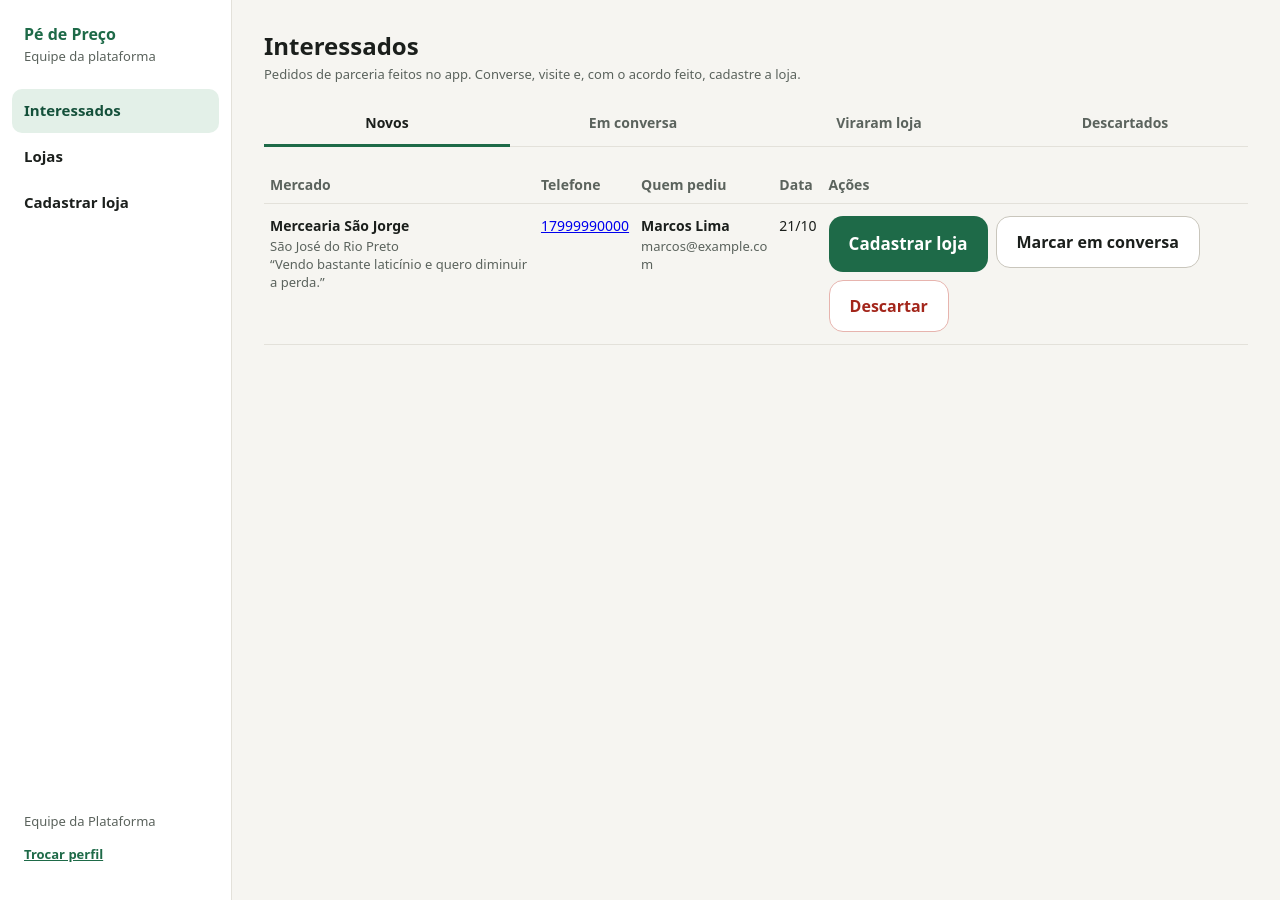
P1 · Interessados › "Descartar" pede o motivo e mostra o pedido nos Descartados
Click the button "Descartar" at (889, 306), box [829,280,949,332]
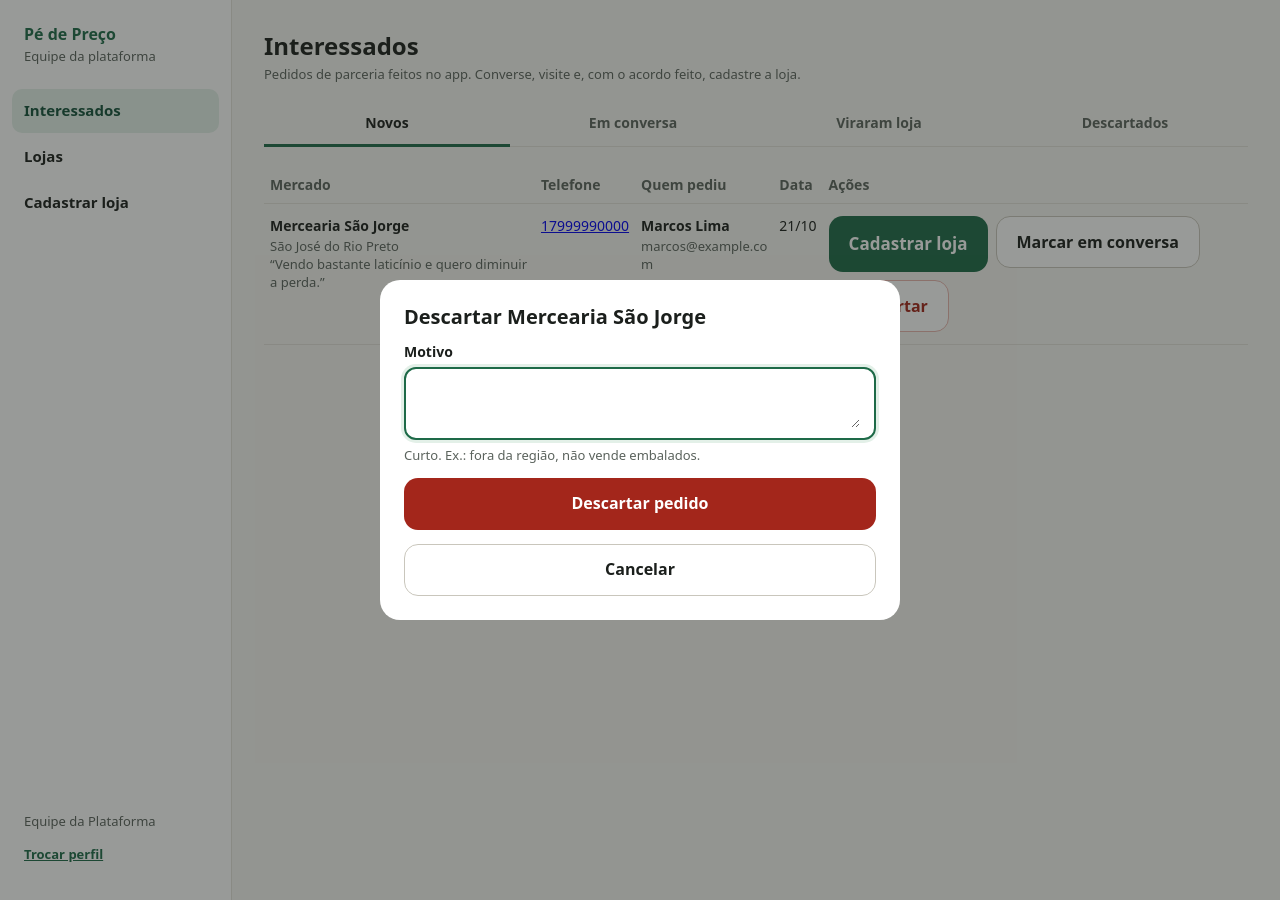
Click the button "Descartar pedido" at (640, 504), box [404,478,876,530]
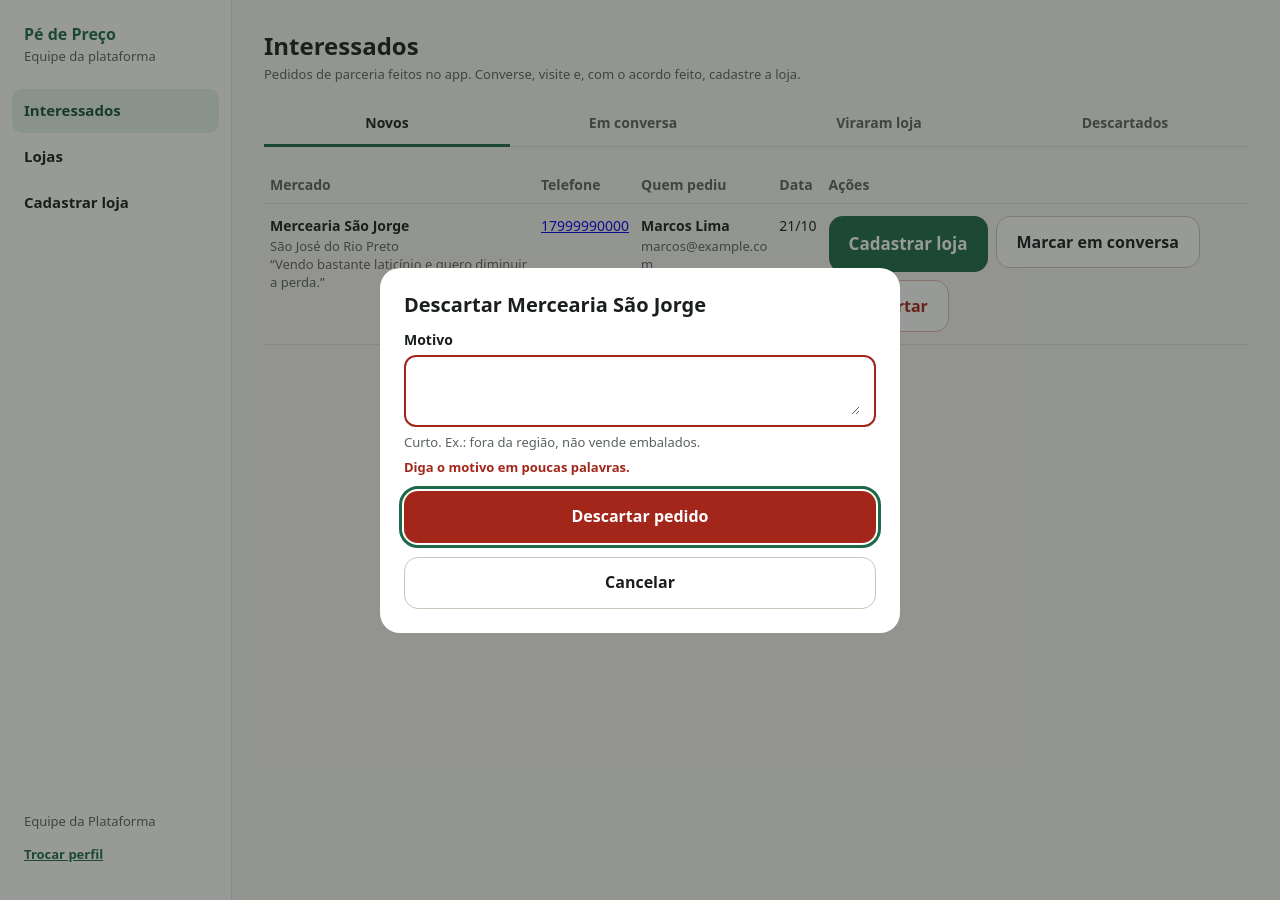
Type "Fora da região" into the text box labelled "Motivo" at (640, 391), box [420,367,860,416]
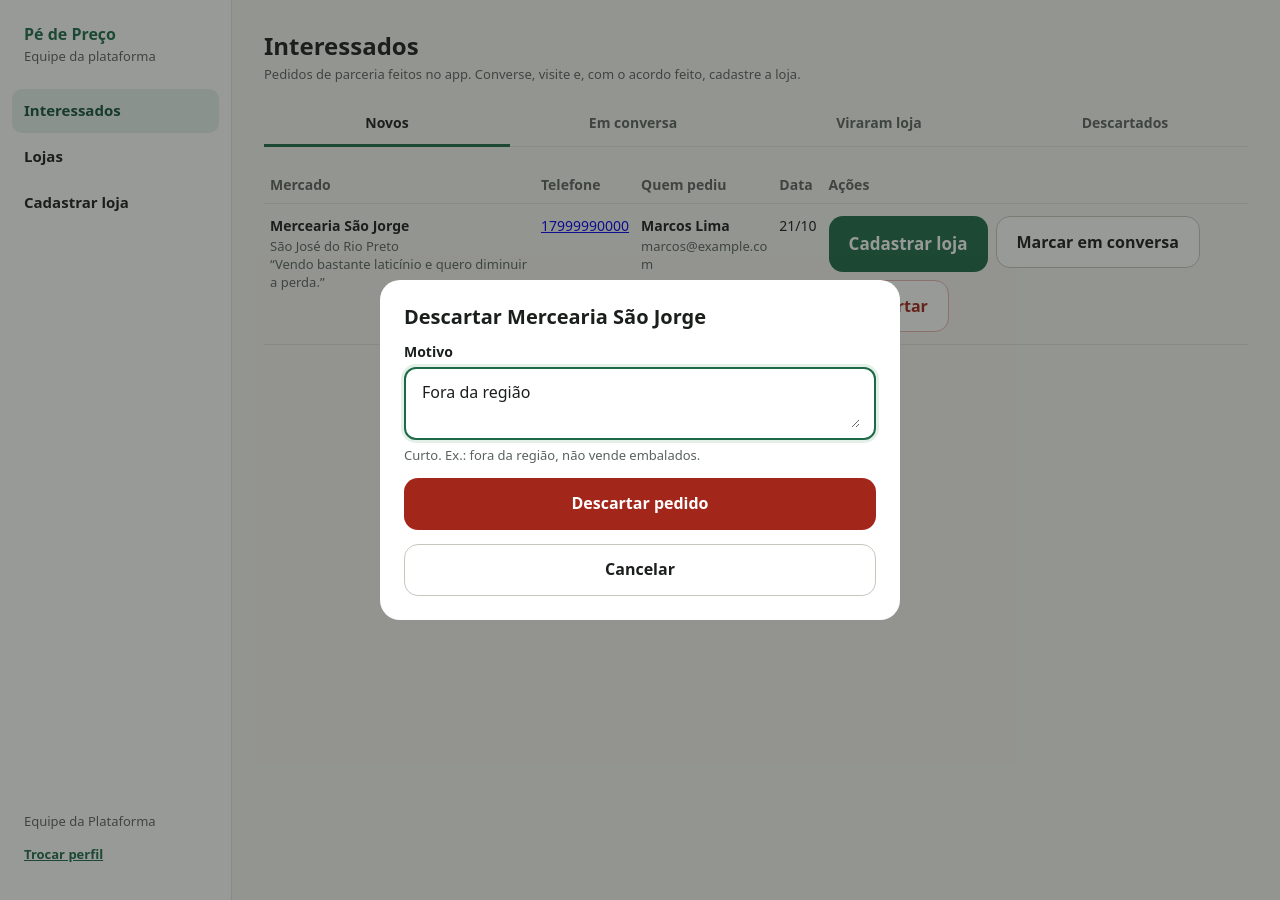
Click the button "Descartar pedido" at (640, 504), box [404,478,876,530]
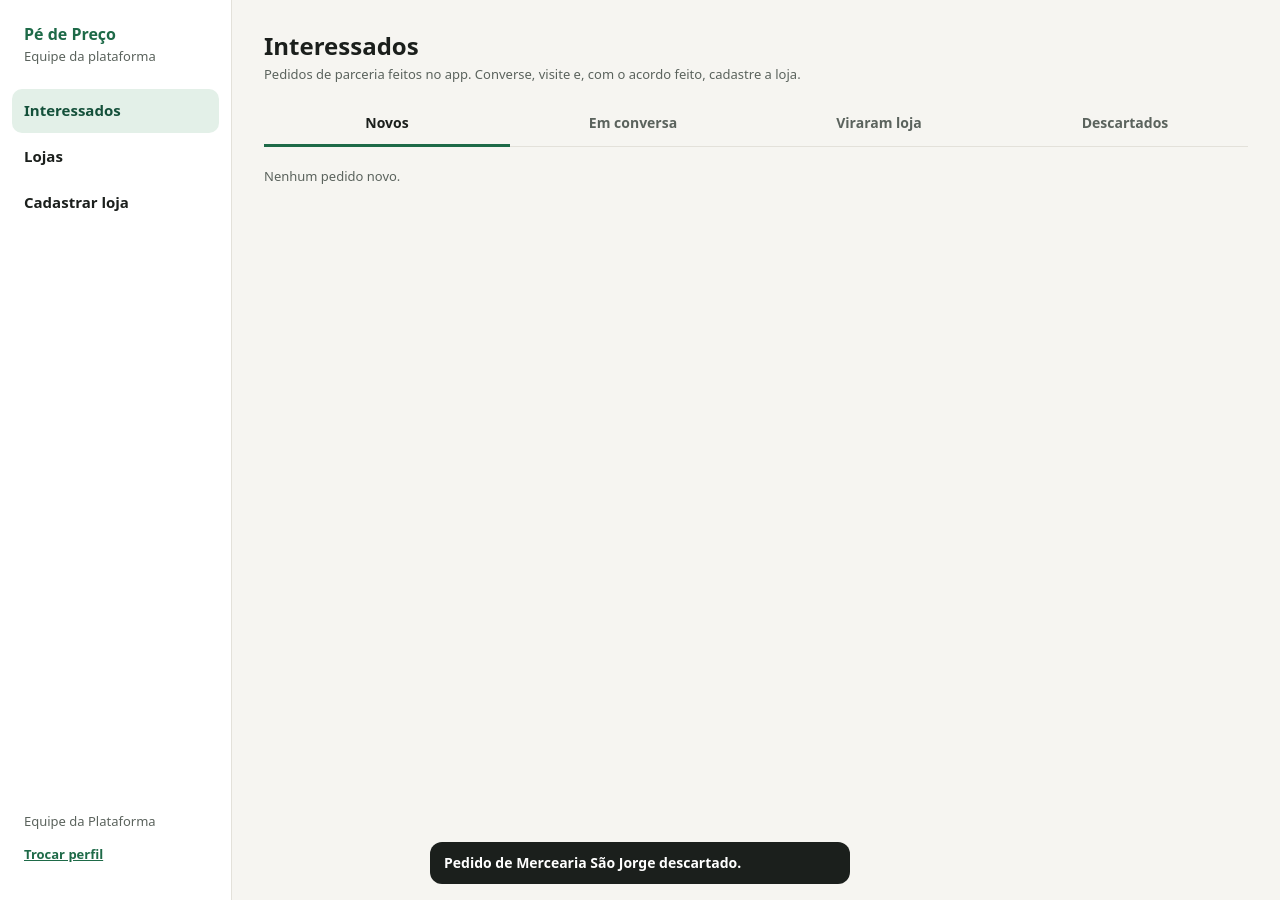
Expected: the dialog is gone
Click the tab "Descartados" at (1125, 125), box [1002,103,1248,147]
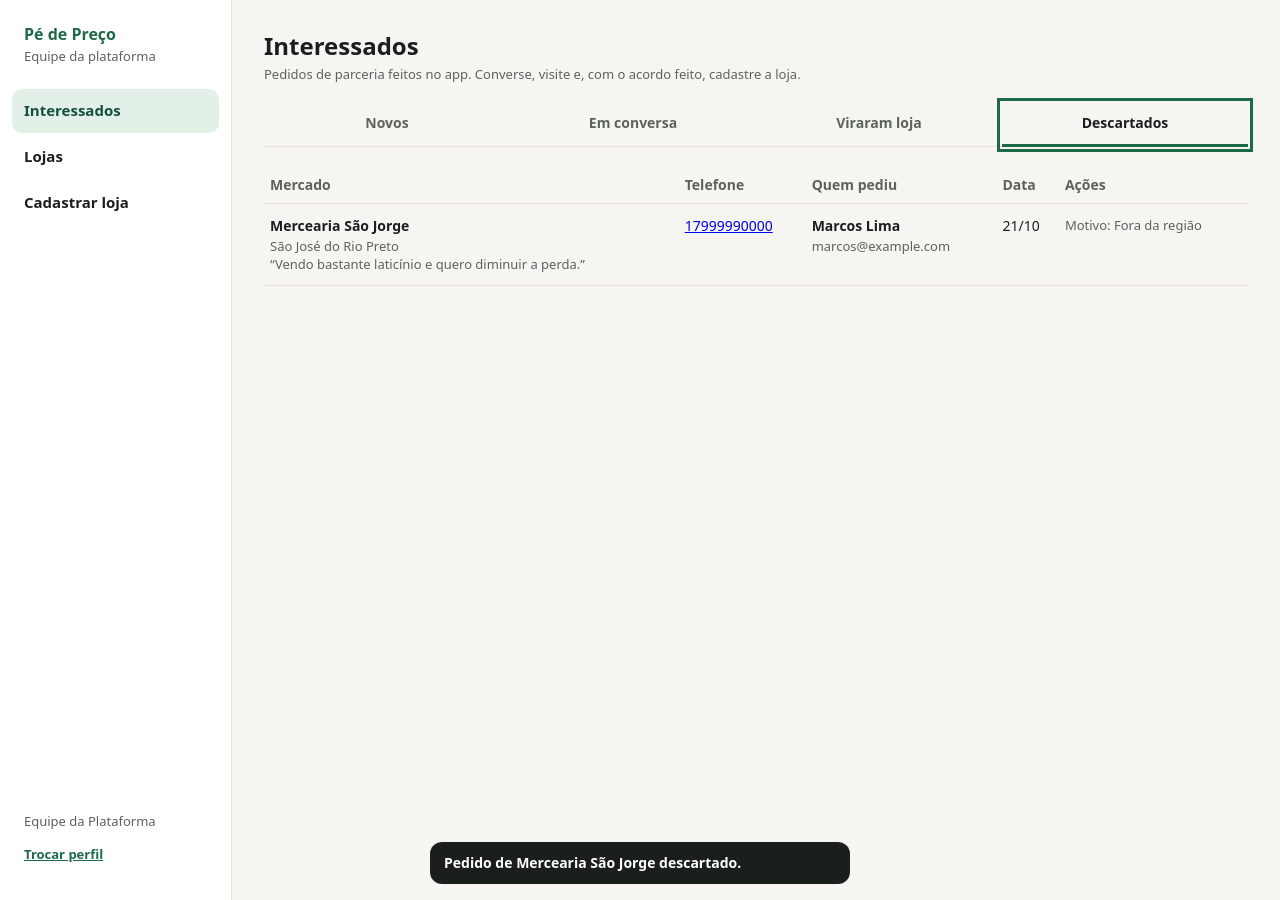
Expected: the text "Motivo: Fora da região" is shown, [1065,216,1202,234]
